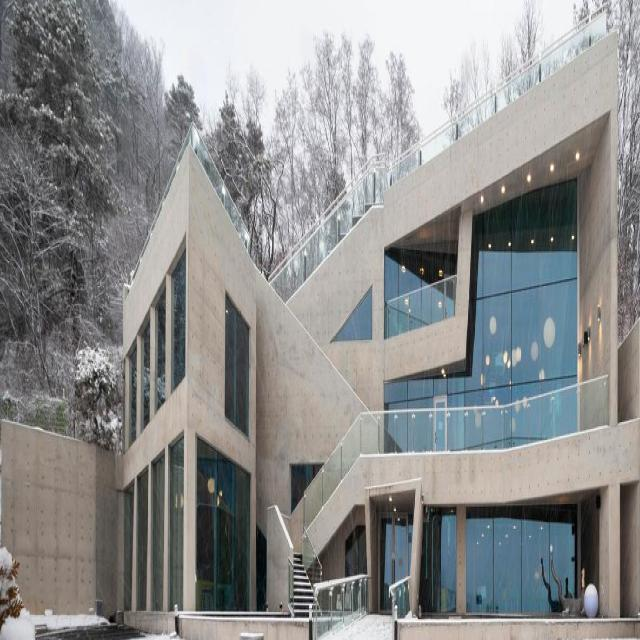door: (379, 513, 406, 612)
railing: (269, 8, 607, 304), (304, 373, 609, 532), (194, 126, 252, 251), (386, 272, 456, 342)
window: (383, 175, 578, 410), (465, 513, 574, 615), (196, 434, 251, 609), (385, 249, 457, 302), (420, 512, 457, 611), (225, 294, 249, 435), (170, 437, 184, 610), (171, 244, 186, 391), (153, 455, 165, 610), (137, 468, 148, 612), (155, 289, 165, 413), (126, 489, 135, 612), (142, 318, 150, 432), (347, 530, 367, 574), (129, 347, 136, 442)
